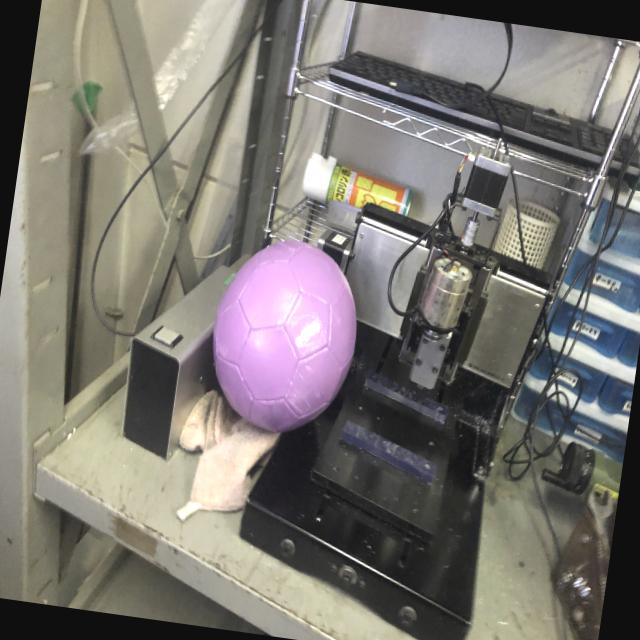purple_ball: (202, 230, 369, 440)
